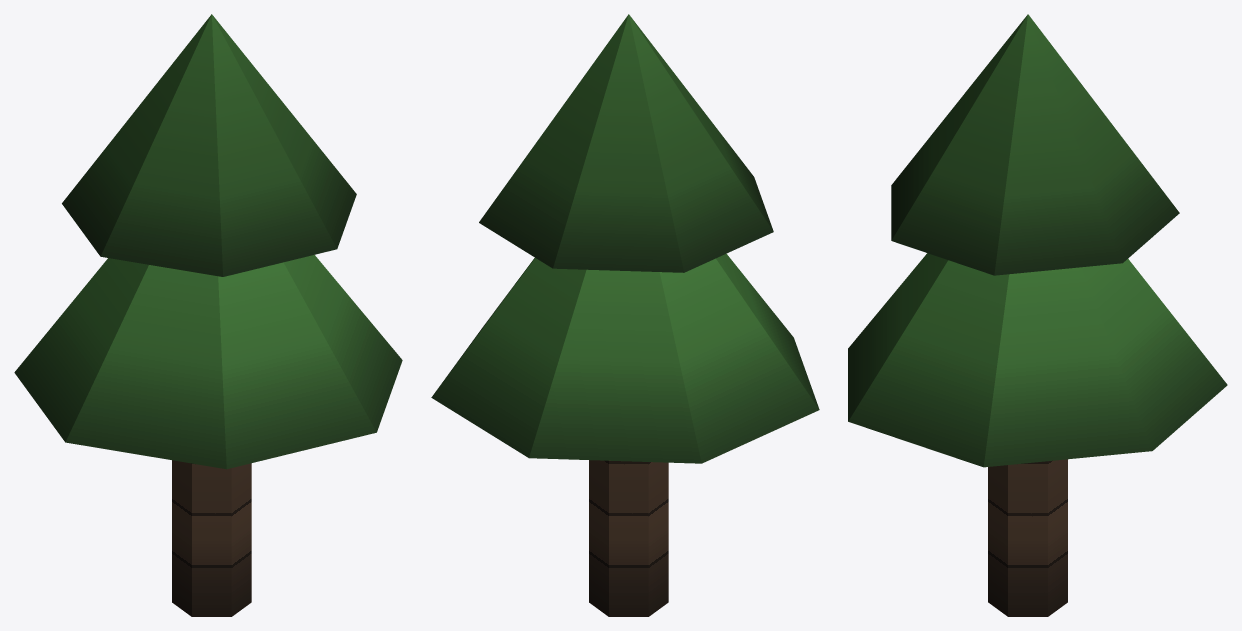
File: tree.glb
3 views of the same model, side by side, from view 1: azimuth 30°, elevation 25°; view 2: azimuth 150°, elevation 25°; view 3: azimuth 270°, elevation 25° (orthographic).
Visible parts, largest first — view 1: tree; view 2: tree; view 3: tree.
Part boxes in pixels (x1,y1,x2,y2): tree: [14, 14, 402, 616]; tree: [431, 14, 819, 616]; tree: [848, 14, 1227, 616].
Size of the model in its own units: 0.9749 by 1.62 by 0.9505.
Materials: 1 (1 with a texture image).
